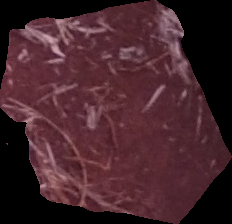soil: (1, 1, 232, 222)
